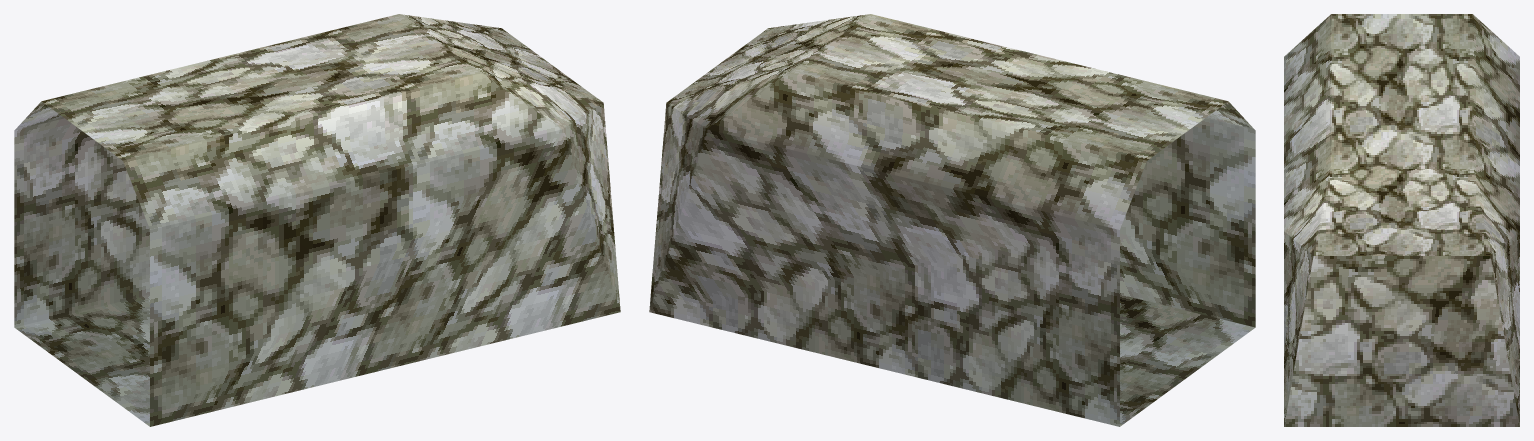
File: bk_dossunbar_s.glb
The picture shows the model from 3 angles, left to right: view 1: azimuth 30°, elevation 25°; view 2: azimuth 150°, elevation 25°; view 3: azimuth 270°, elevation 25°; orthographic projection. The views are drawn at different scales.
Parts seen in each view (by area): view 1: bk_dossunbar_s; view 2: bk_dossunbar_s; view 3: bk_dossunbar_s.
Boxes of the visible parts, x1,y1,x2,y2 form: bk_dossunbar_s: (14, 14, 620, 426); bk_dossunbar_s: (649, 14, 1255, 426); bk_dossunbar_s: (1284, 14, 1519, 426).
Bounding box in the file's own units: 62.5 × 31.25 × 31.25.
Materials: 1 (1 with a texture image).
